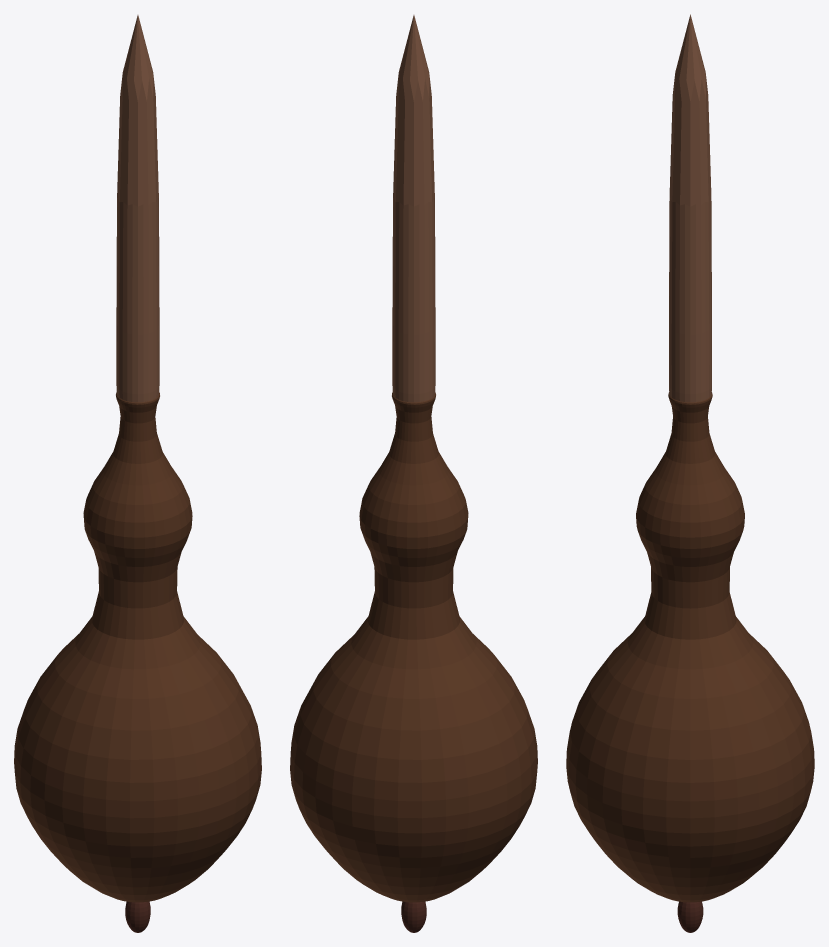
File: Wand 606.glb
The picture shows the model from 3 angles, left to right: view 1: azimuth 30°, elevation 25°; view 2: azimuth 150°, elevation 25°; view 3: azimuth 270°, elevation 25°; orthographic projection.
Visible parts, largest first — view 1: GeneratedWand; view 2: GeneratedWand; view 3: GeneratedWand.
Boxes of the visible parts, x1,y1,x2,y2 form: GeneratedWand: [14, 15, 261, 932]; GeneratedWand: [290, 15, 537, 932]; GeneratedWand: [566, 14, 814, 932].
Size of the model in its own units: 0.123 by 0.5012 by 0.123.
